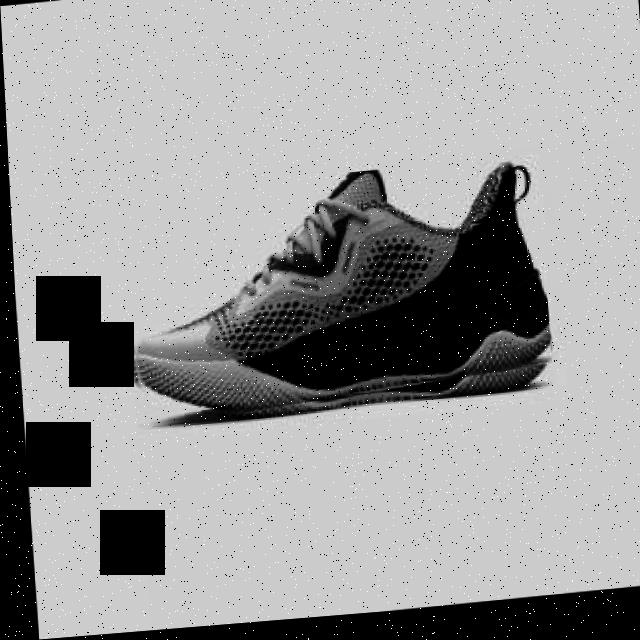shoe: (115, 162, 549, 431)
